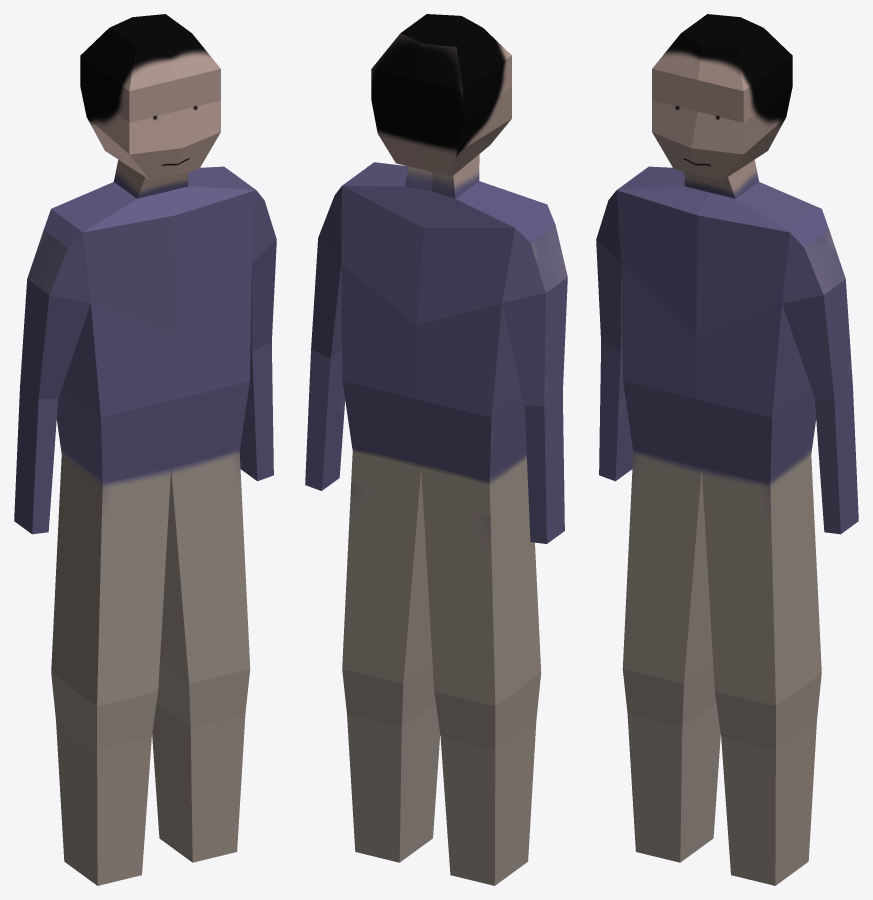
The model's file is Human.glb.
3 views of the same model, side by side, from view 1: azimuth 30°, elevation 25°; view 2: azimuth 150°, elevation 25°; view 3: azimuth 330°, elevation 25° (orthographic).
Visible parts, largest first — view 1: Cube; view 2: Cube; view 3: Cube.
Boxes of the visible parts, x1,y1,x2,y2 form: Cube: [14, 14, 276, 885]; Cube: [305, 14, 567, 885]; Cube: [596, 14, 858, 885].
Size of the model in its own units: 1.6 by 5.22 by 0.6396.
1 material, 1 textured.
